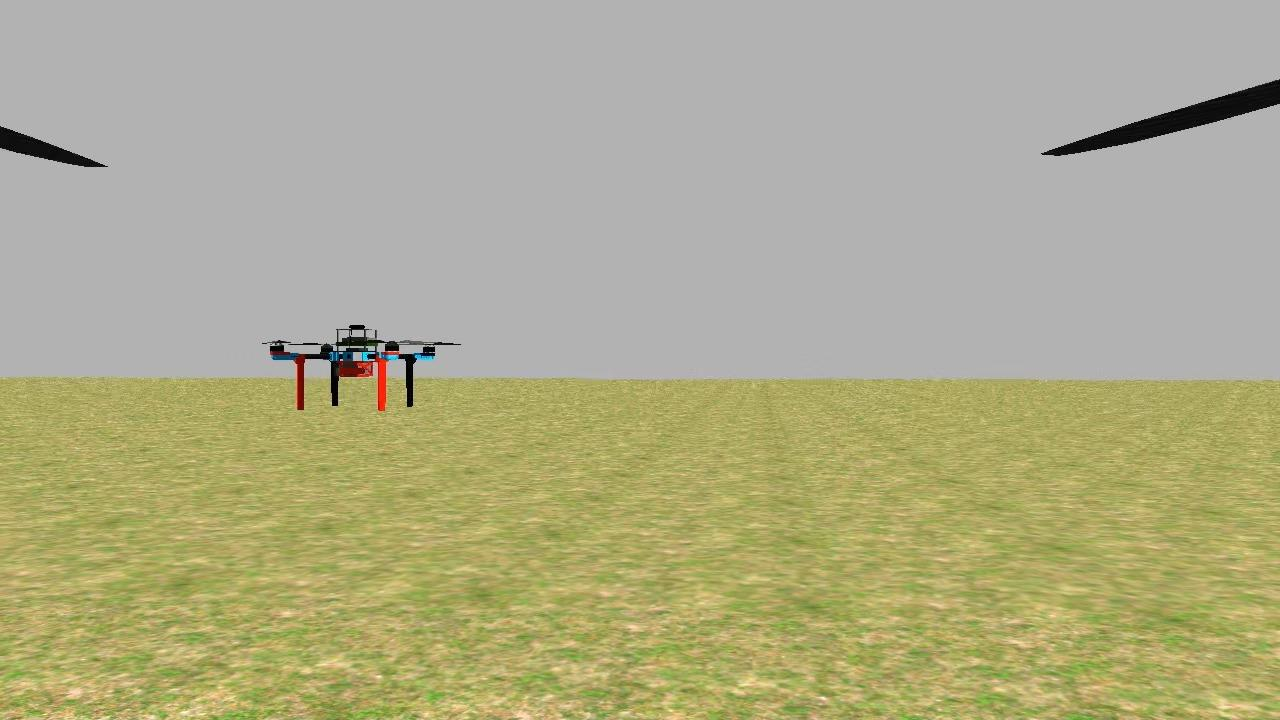UAV: (258, 301, 446, 430)
